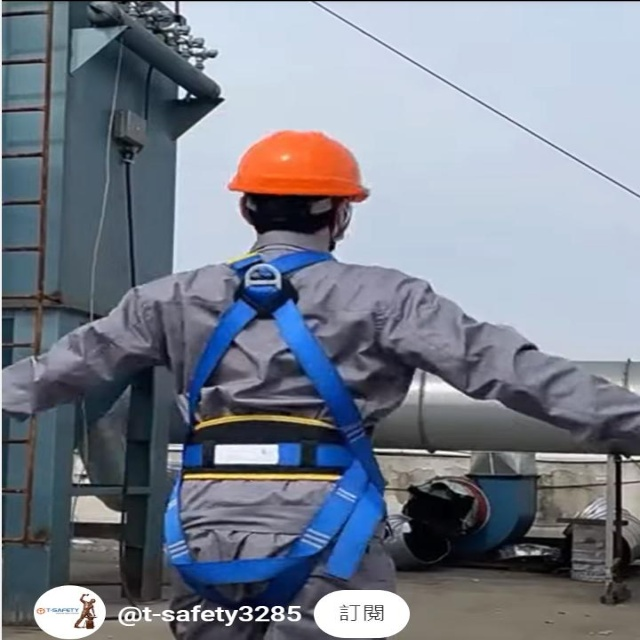Arnes_seguridad: (163, 251, 393, 603)
